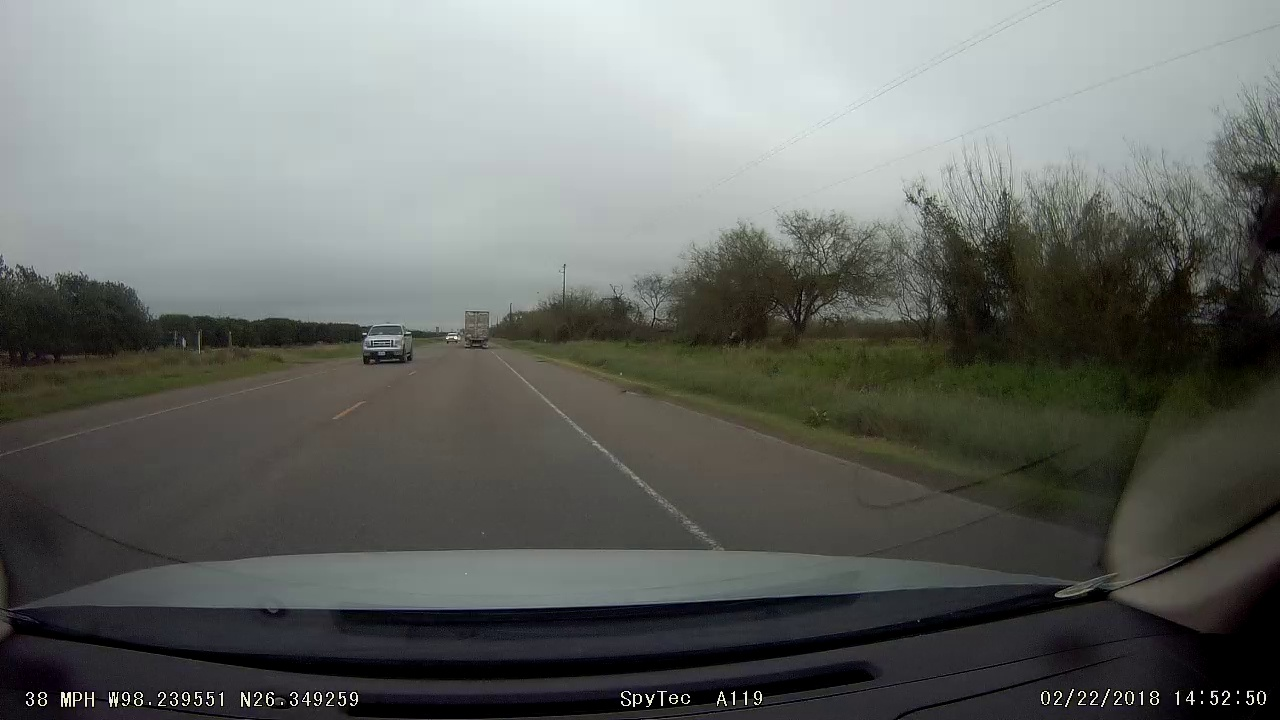blurredLine: (598, 446, 683, 521)
